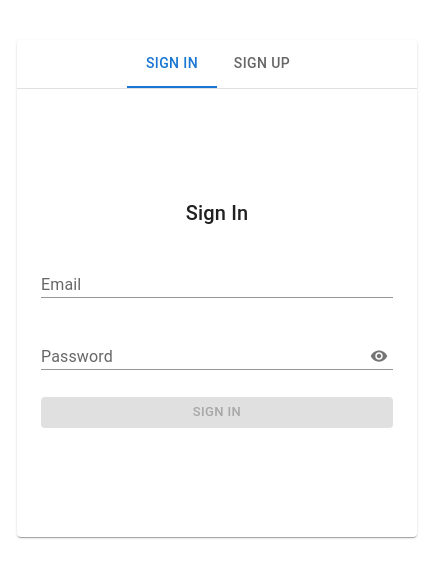
Test: Auth component › handles switching between Sign In and Sign Up tabs and checks the active tab
What coordinates should you click on to do the following:
click the tab "Sign Up"
I would click on:
 (262, 64)
Its box is [217, 40, 307, 88].
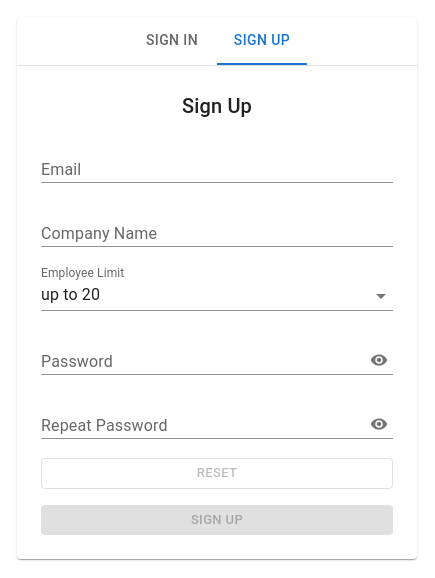
Expected: the panel "Sign Up" is shown
What coordinates should you click on to do the following:
click the tab "Sign In"
I would click on:
 (172, 41)
Its box is [127, 17, 217, 65].
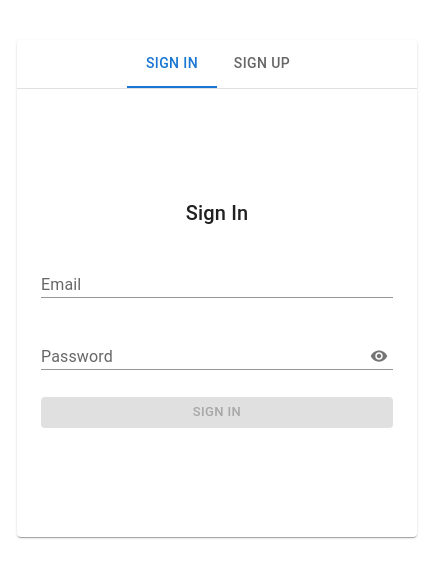
Expected: the panel "Sign In" is shown, [41, 201, 393, 428]
